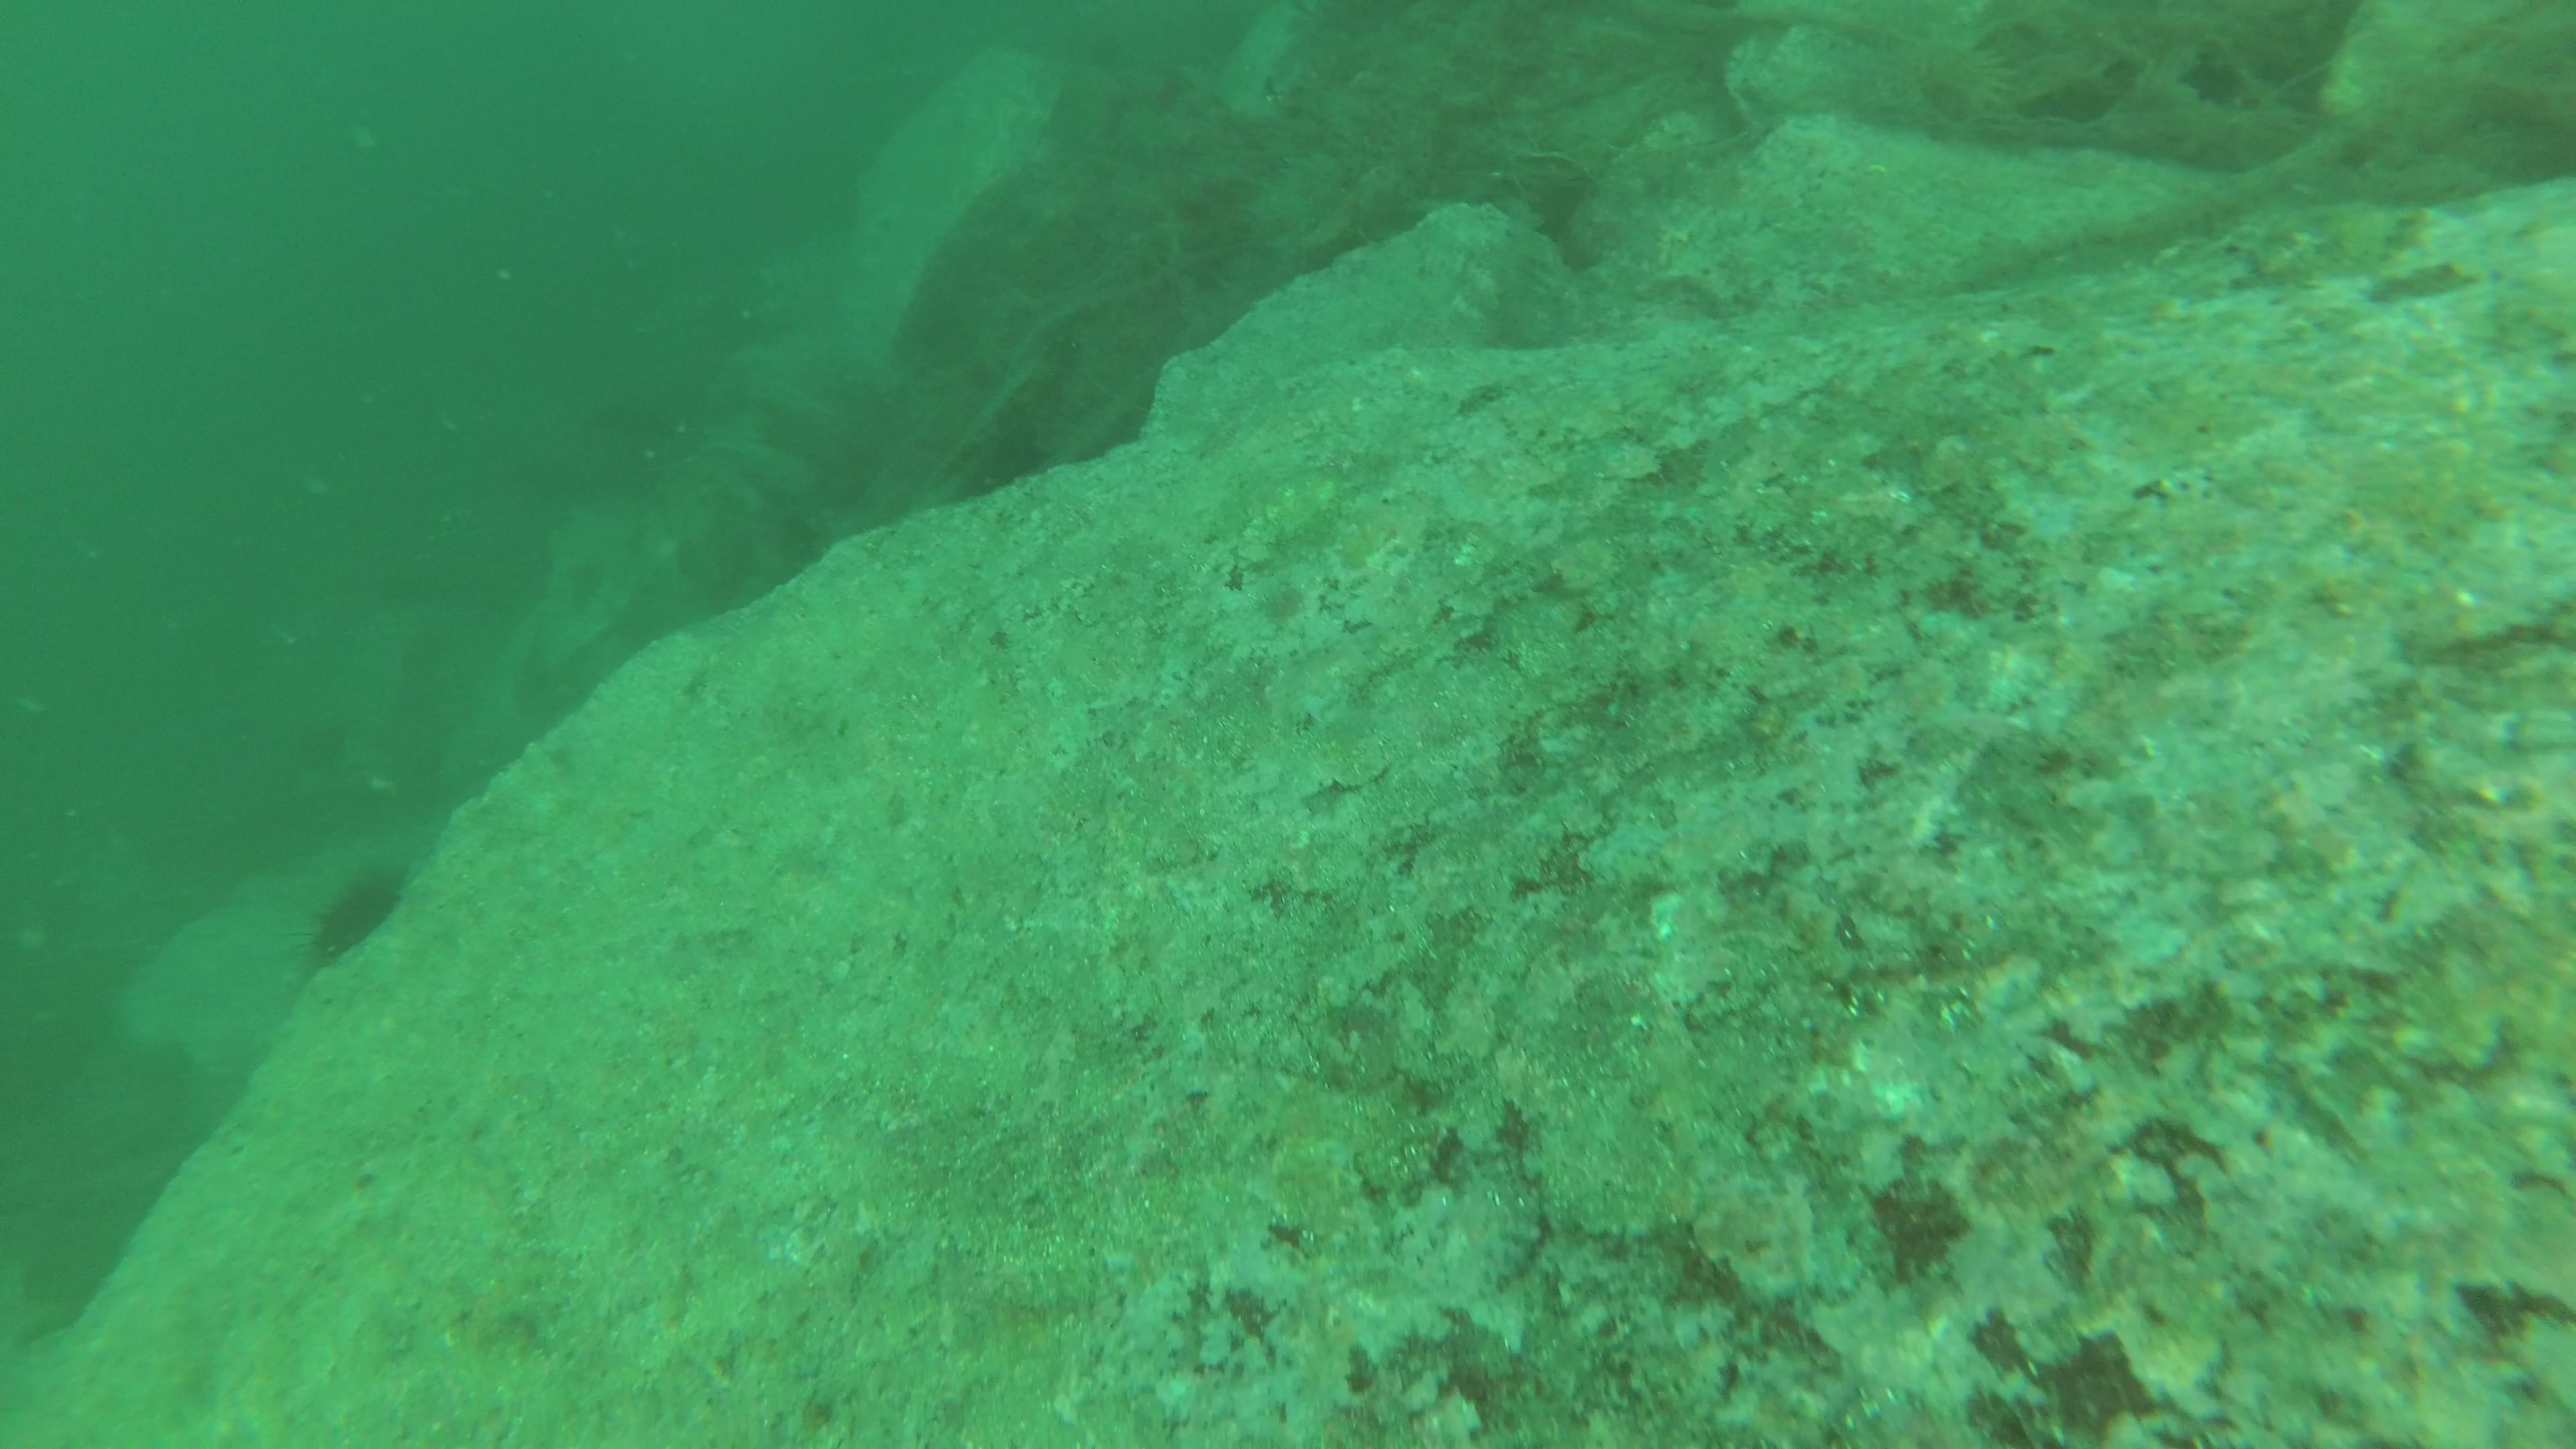echinus: (297, 860, 412, 977)
